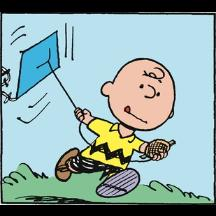charlie: (54, 55, 180, 199)
